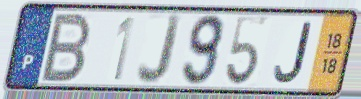1: (113, 16, 136, 82)
5: (223, 13, 275, 89)
9: (178, 11, 225, 89)
B: (37, 11, 94, 85)
J: (135, 11, 185, 89), (272, 20, 314, 85)
